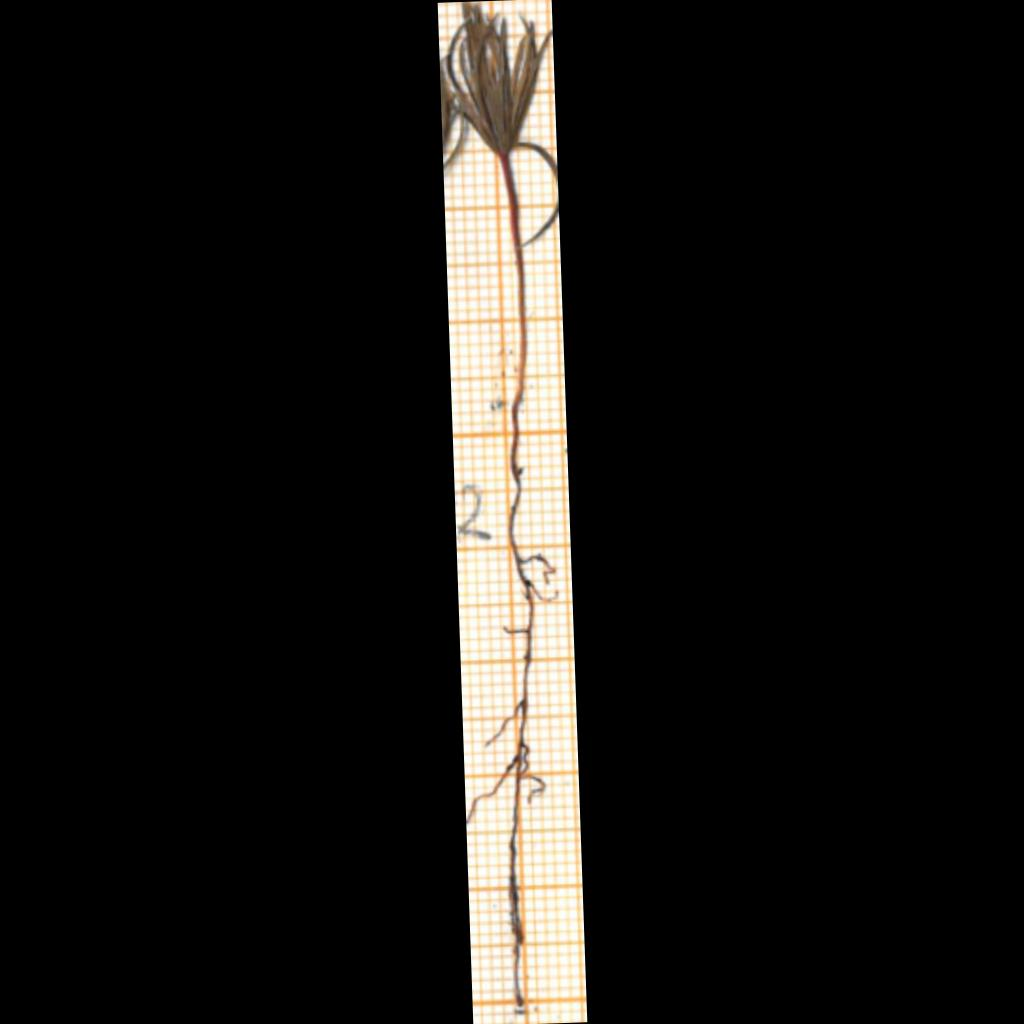flowerPinus: (447, 2, 557, 179)
rootPinus: (466, 408, 554, 1010)
stemPinus: (501, 157, 527, 409)
